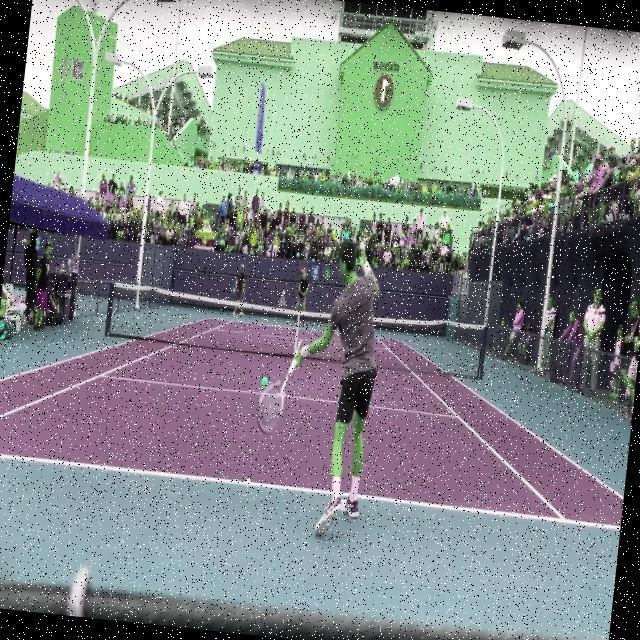court: (0, 293, 637, 530)
net: (100, 278, 489, 384)
player: (242, 230, 390, 544)
